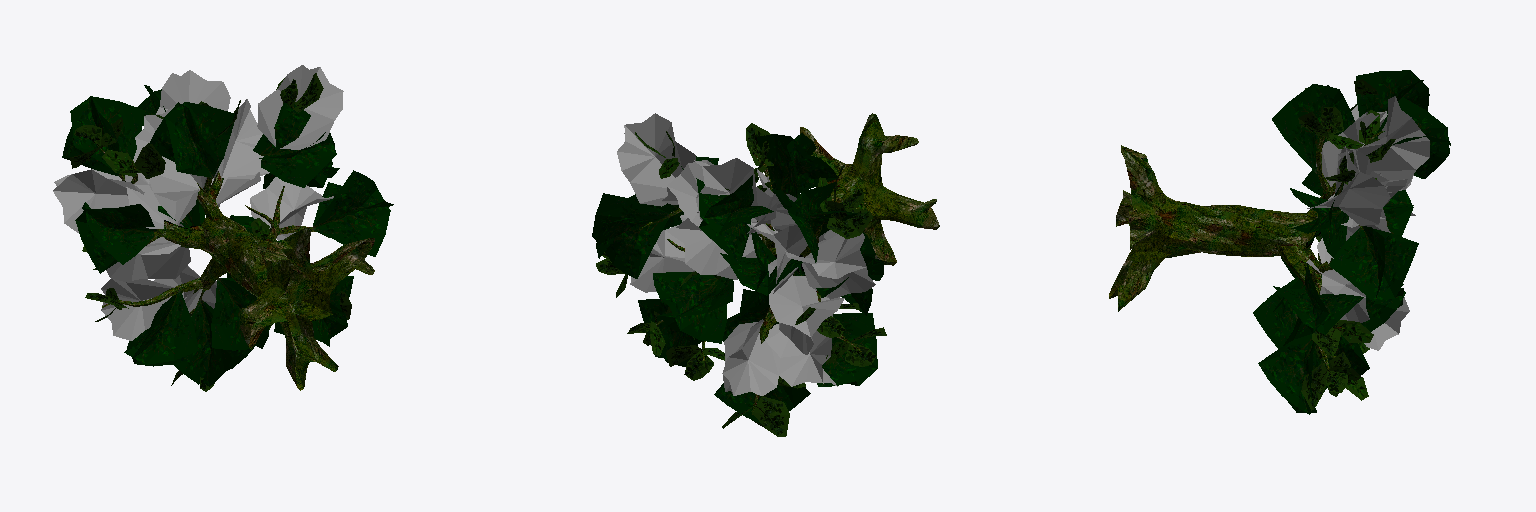
3 views of the same model, side by side, from view 1: azimuth 30°, elevation 25°; view 2: azimuth 150°, elevation 25°; view 3: azimuth 270°, elevation 25° (orthographic).
Parts seen in each view (by area): view 1: D29__Mt_Treeleaf_02, A_Twist00OutsideNormalOriginalModel_032__Mt_Treeleaf_00, polySurface1211__Mt_Tree_MossWood_A, LeafBases_031__Mt_Treeleaf_A; view 2: D29__Mt_Treeleaf_02, A_Twist00OutsideNormalOriginalModel_032__Mt_Treeleaf_00, LeafBases_031__Mt_Treeleaf_A, polySurface1211__Mt_Tree_MossWood_A; view 3: D29__Mt_Treeleaf_02, polySurface1211__Mt_Tree_MossWood_A, A_Twist00OutsideNormalOriginalModel_032__Mt_Treeleaf_00, LeafBases_031__Mt_Treeleaf_A.
Boxes of the visible parts, x1=… form: D29__Mt_Treeleaf_02: x1=62, y1=85, x2=393, y2=386; A_Twist00OutsideNormalOriginalModel_032__Mt_Treeleaf_00: x1=53, y1=65, x2=343, y2=340; polySurface1211__Mt_Tree_MossWood_A: x1=100, y1=107, x2=374, y2=390; LeafBases_031__Mt_Treeleaf_A: x1=70, y1=73, x2=351, y2=391; D29__Mt_Treeleaf_02: x1=592, y1=133, x2=884, y2=423; A_Twist00OutsideNormalOriginalModel_032__Mt_Treeleaf_00: x1=617, y1=113, x2=875, y2=395; LeafBases_031__Mt_Treeleaf_A: x1=596, y1=123, x2=886, y2=436; polySurface1211__Mt_Tree_MossWood_A: x1=639, y1=113, x2=939, y2=414; D29__Mt_Treeleaf_02: x1=1253, y1=70, x2=1450, y2=414; polySurface1211__Mt_Tree_MossWood_A: x1=1109, y1=126, x2=1384, y2=371; A_Twist00OutsideNormalOriginalModel_032__Mt_Treeleaf_00: x1=1306, y1=96, x2=1429, y2=350; LeafBases_031__Mt_Treeleaf_A: x1=1298, y1=79, x2=1395, y2=410.
Size of the model in its own units: 24.34 by 22.83 by 23.77.
Materials: 6 (4 with a texture image).